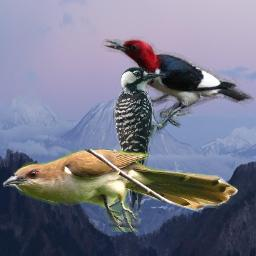Cuckoo: (3, 149, 239, 232)
Woodpecker: (99, 35, 254, 122), (111, 66, 184, 211)
